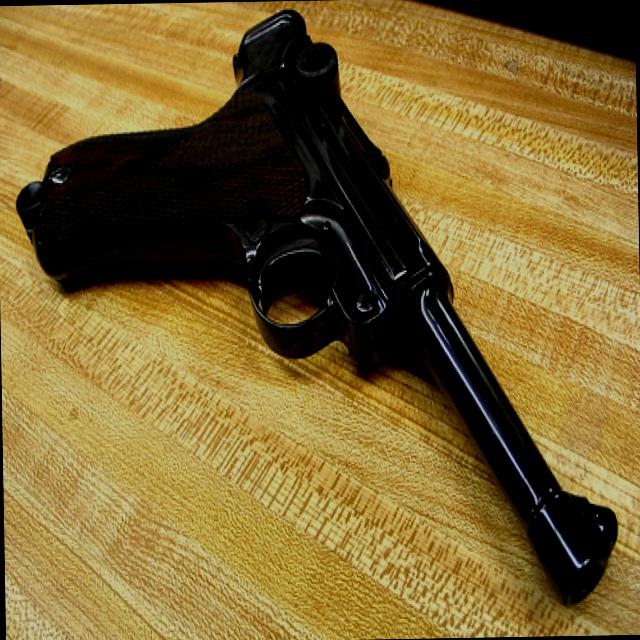handgun: (9, 0, 612, 611)
